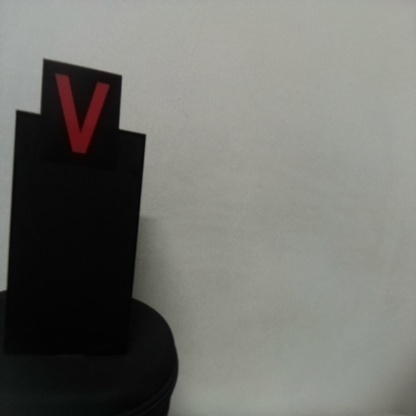id_11: (42, 62, 119, 169)
